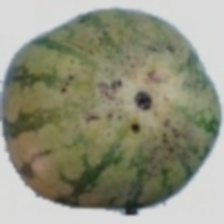watermelon: (18, 61, 197, 198)
